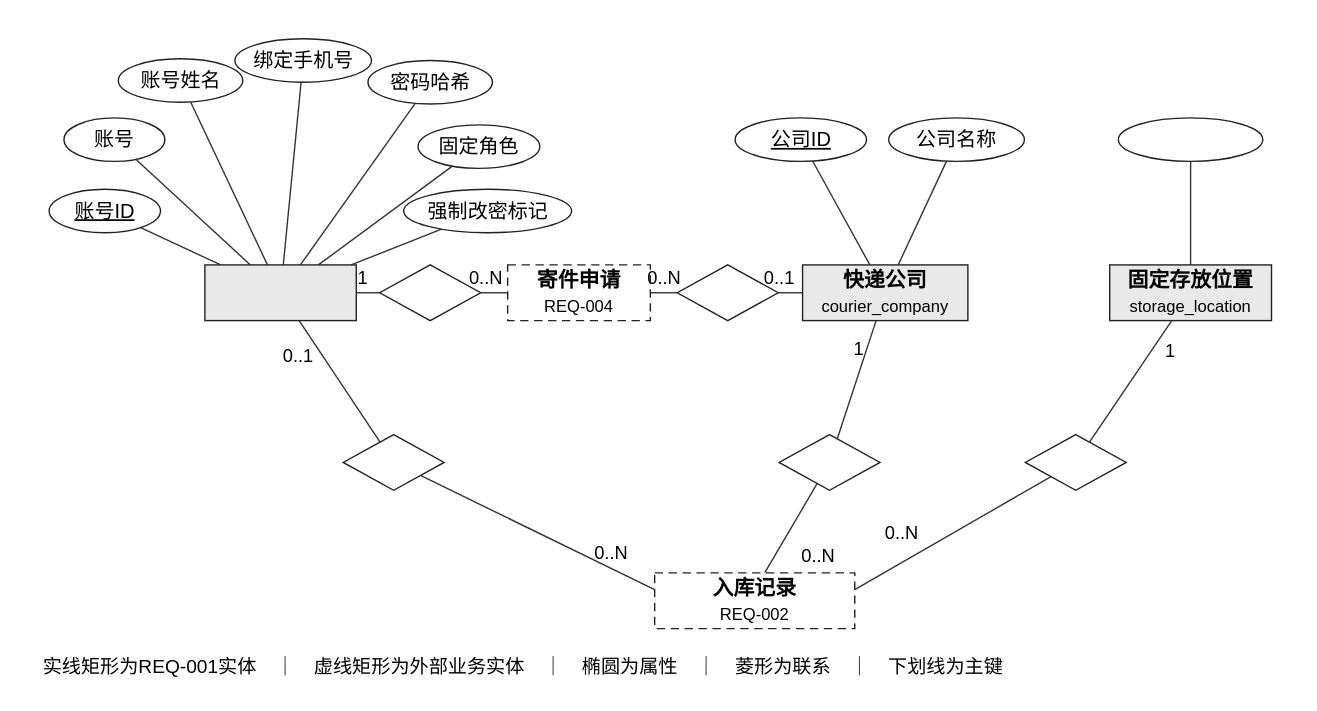
Image size: 1317x711. Some labels were removed from this diagram. The shapes that lost their labels are listed below. From the top down, each one's centre as x and y in pixels, then its label:
At point 1190,139: "位置名称".
At point 280,292: "账号 account".
At point 430,292: "提交".
At point 727,292: "寄出使用".
At point 393,462: "归属".
At point 829,462: "承运".
At point 1075,462: "存放于".
